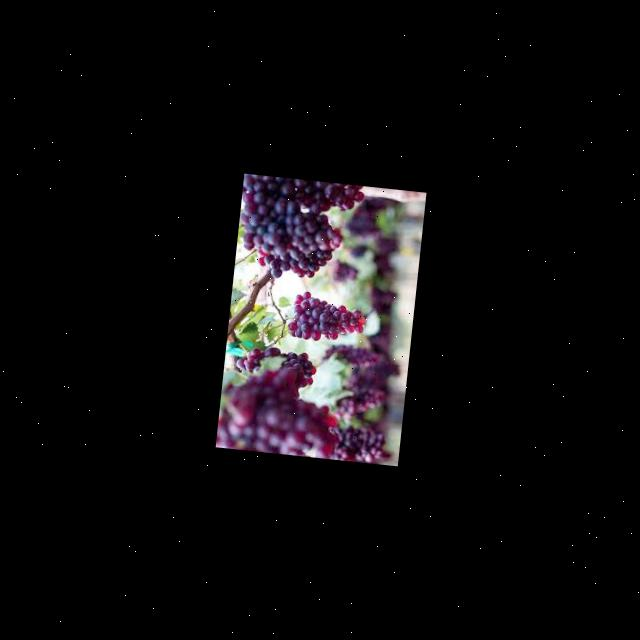grape: (233, 174, 364, 286), (284, 289, 368, 346)
